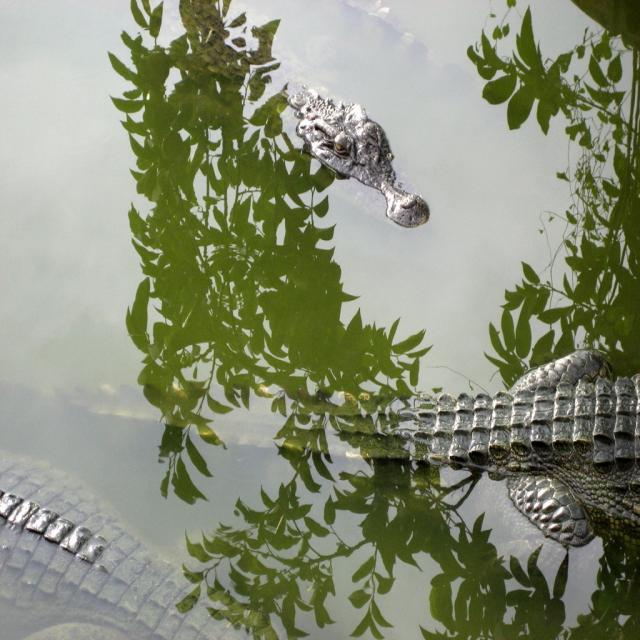crocodile: (249, 25, 443, 251)
